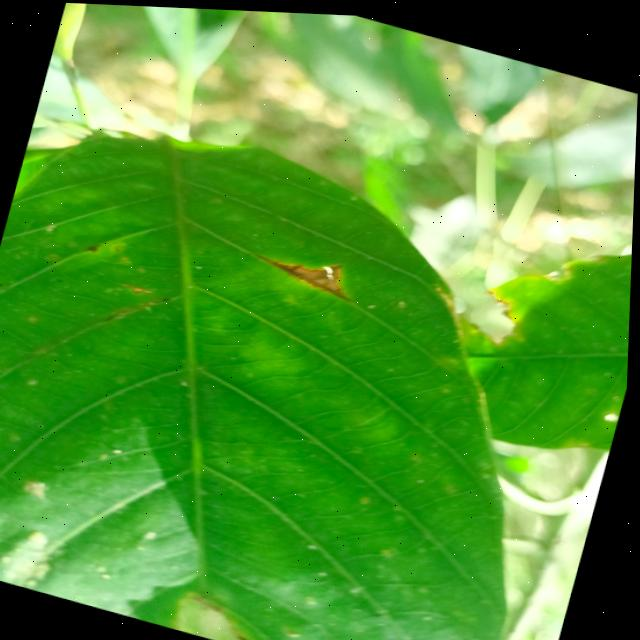Leaf-Blight: (248, 237, 364, 301)
